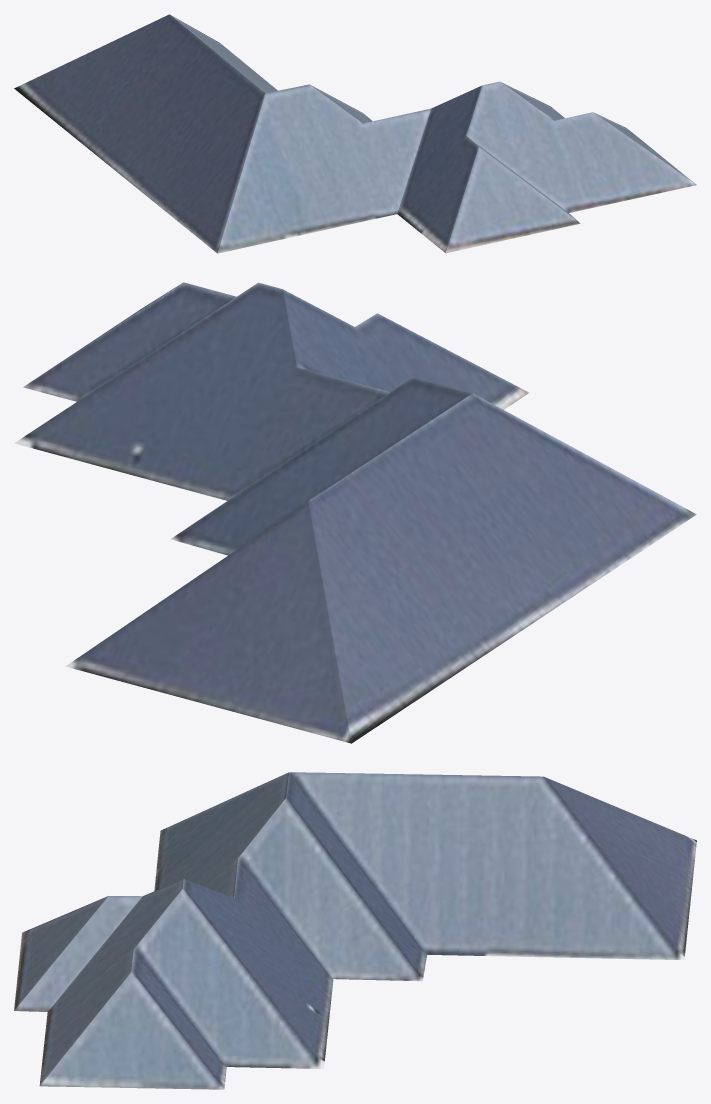
File: CG10_500_041060_0031_roof.obj
3 renders of one model, top to bottom at view 1: azimuth 30°, elevation 25°; view 2: azimuth 150°, elevation 25°; view 3: azimuth 270°, elevation 25°, orthographic. The views are drawn at different scales.
Visible parts, largest first — view 1: CG10_500_041060_0031_roof; view 2: CG10_500_041060_0031_roof; view 3: CG10_500_041060_0031_roof.
Boxes of the visible parts, <box> form: CG10_500_041060_0031_roof: <box>14,14,696,253</box>; CG10_500_041060_0031_roof: <box>14,282,696,743</box>; CG10_500_041060_0031_roof: <box>14,772,696,1089</box>.
Bounding box in the file's own units: 327 × 70 × 364.
1 material, 1 textured.
